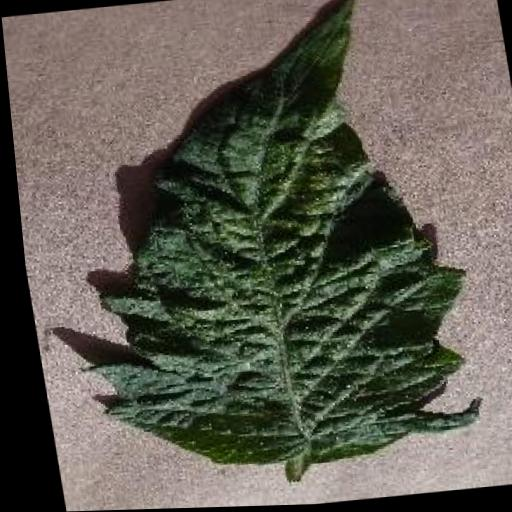Spider Mites: (23, 0, 482, 480)
